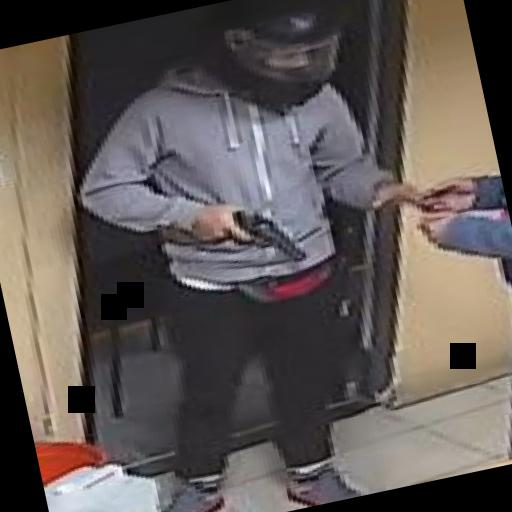Handgun: (188, 188, 311, 282)
